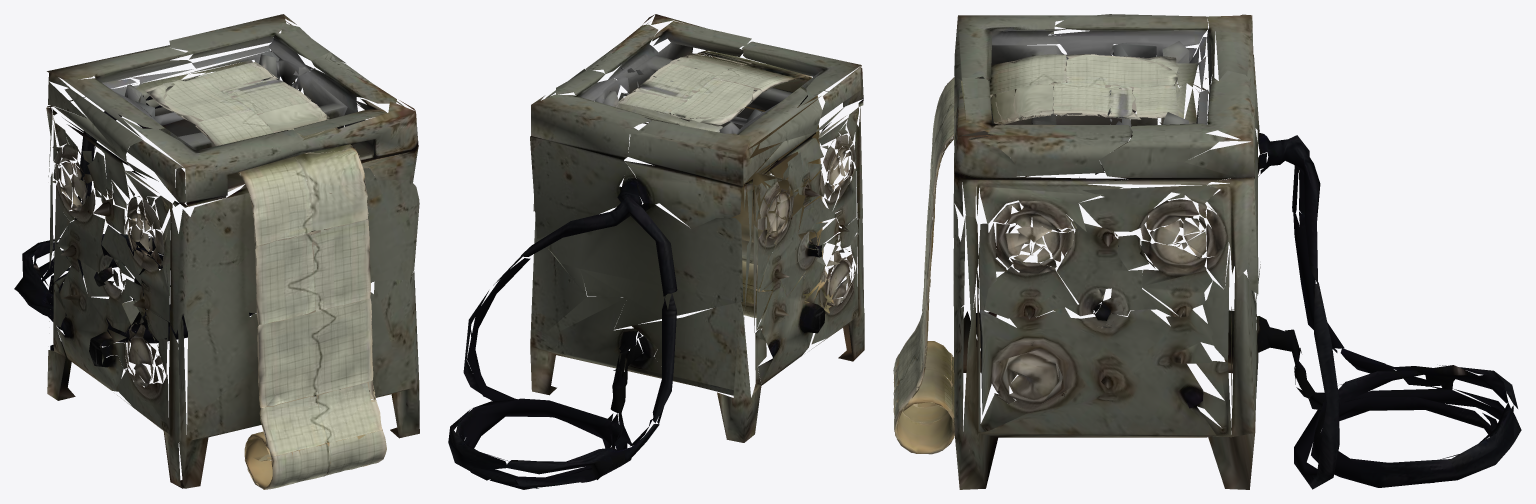
Rendered from recorder.glb.
3 views of the same model, side by side, from view 1: azimuth 30°, elevation 25°; view 2: azimuth 150°, elevation 25°; view 3: azimuth 270°, elevation 25° (orthographic). The views are drawn at different scales.
Parts seen in each view (by area): view 1: geometry_0; view 2: geometry_0; view 3: geometry_0.
Part boxes in pixels (left/top/right/bottom): geometry_0: left=14, top=14, right=419, bottom=489; geometry_0: left=448, top=14, right=864, bottom=489; geometry_0: left=893, top=14, right=1521, bottom=489.
Size of the model in its own units: 1.08 by 1.15 by 1.83.
1 material, 1 textured.
